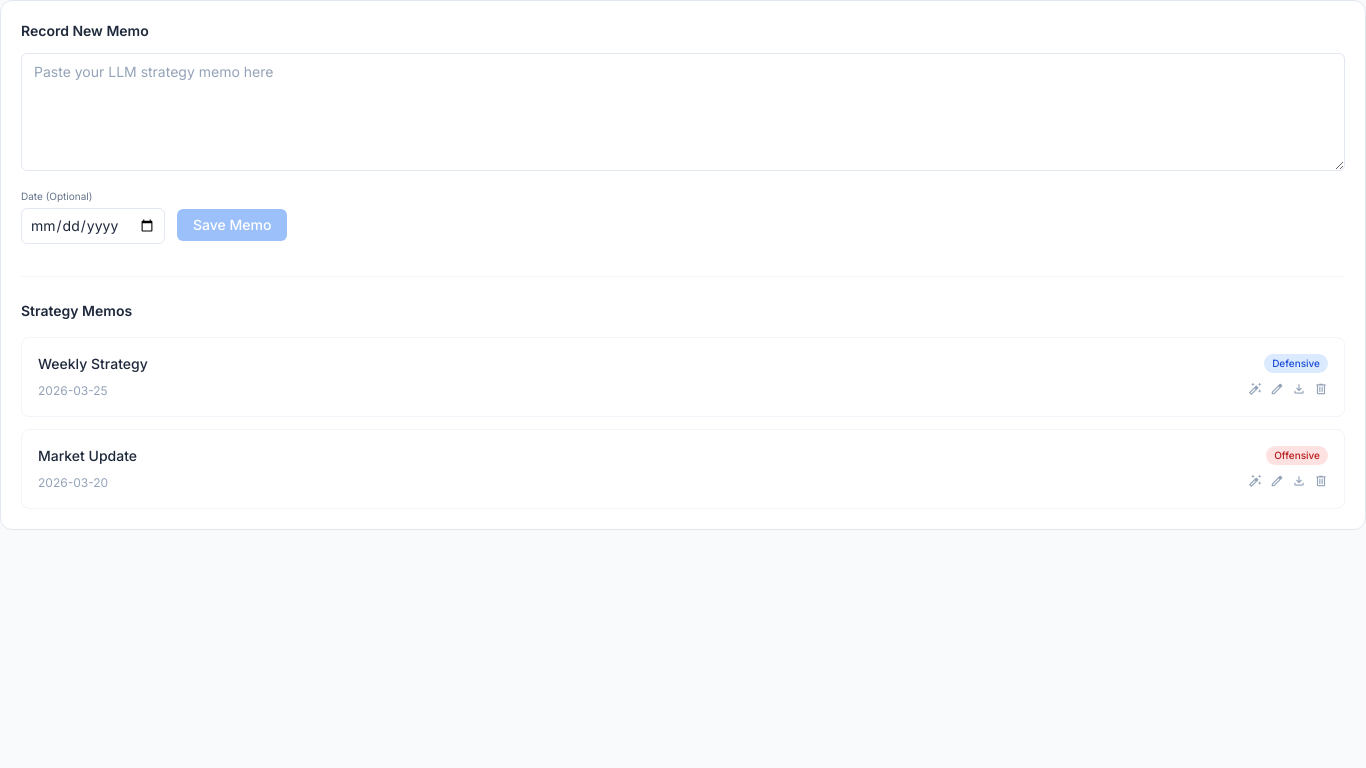
MemoManager › allows deleting a memo
The image size is (1366, 768).
Expected: the text "Weekly Strategy" is shown, [38, 355, 148, 372]
Click the button titled "Delete memo" in the row of "2026-03-25".
click(1321, 391)  # box [1314, 382, 1328, 400]
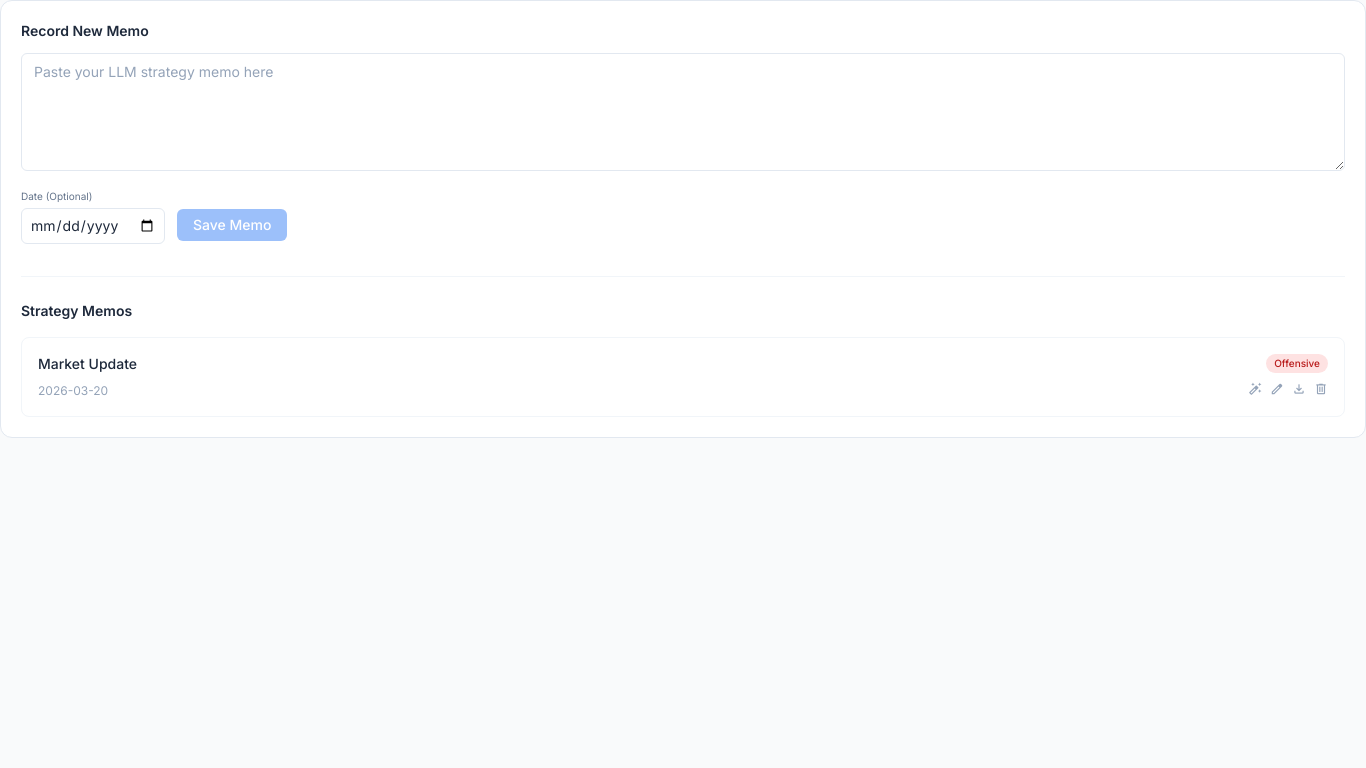
Expected: the text "Market Update" is shown, [38, 355, 137, 372]
Expected: the text "Weekly Strategy" is gone
